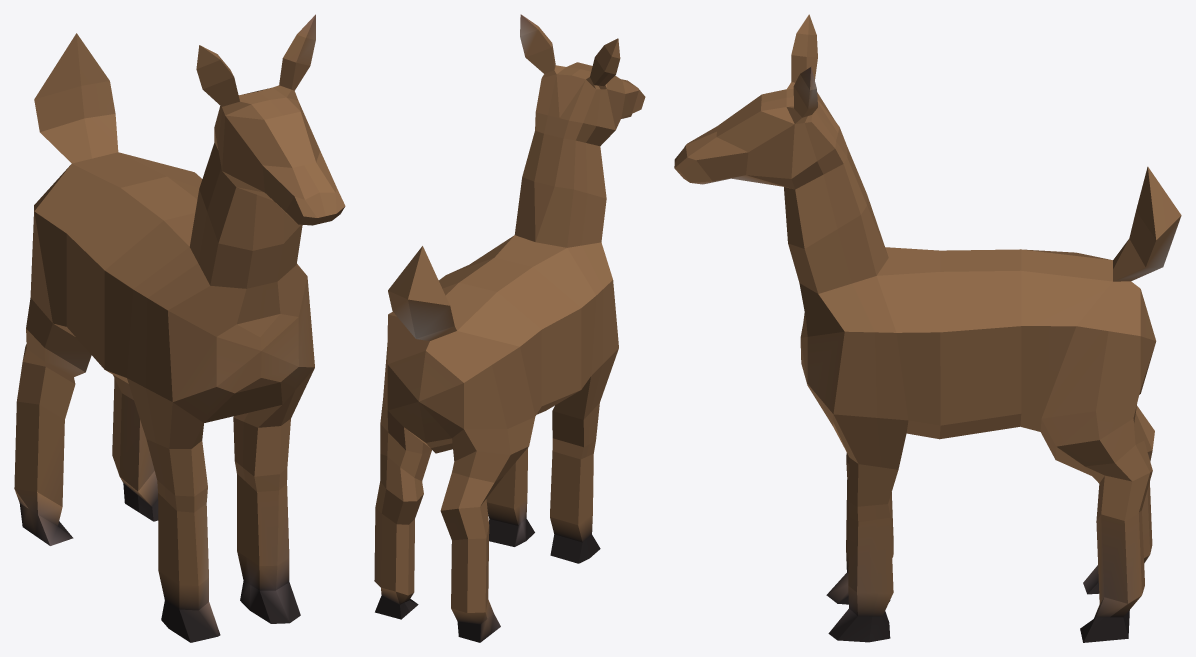
Rendered from sarna.fbx.
3 views of the same model, side by side, from view 1: azimuth 30°, elevation 25°; view 2: azimuth 150°, elevation 25°; view 3: azimuth 270°, elevation 25° (orthographic). The views are drawn at different scales.
Parts seen in each view (by area): view 1: Sphere; view 2: Sphere; view 3: Sphere.
Boxes of the visible parts, bbox=[...] form: Sphere: bbox=[14, 14, 345, 642]; Sphere: bbox=[374, 14, 645, 642]; Sphere: bbox=[674, 14, 1181, 642].
Bounding box in the file's own units: 69.26 × 247 × 197.
